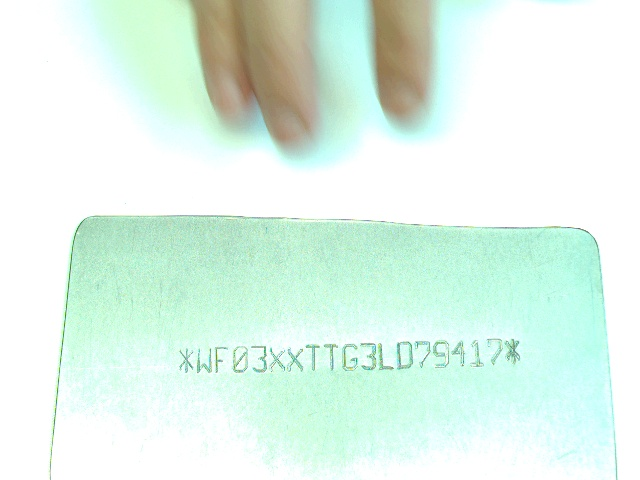0: (232, 345, 250, 372)
1: (468, 338, 486, 369)
3: (361, 340, 379, 372), (250, 344, 268, 374)
4: (450, 339, 467, 369)
7: (413, 339, 432, 370), (487, 337, 504, 366)
9: (432, 339, 451, 370)
d: (394, 339, 413, 371)
f: (213, 345, 229, 374)
g: (340, 342, 359, 371)
l: (377, 339, 395, 371)
t: (321, 342, 339, 371), (306, 342, 321, 373)
w: (195, 345, 212, 373)
x: (285, 344, 307, 373), (267, 345, 287, 375)
